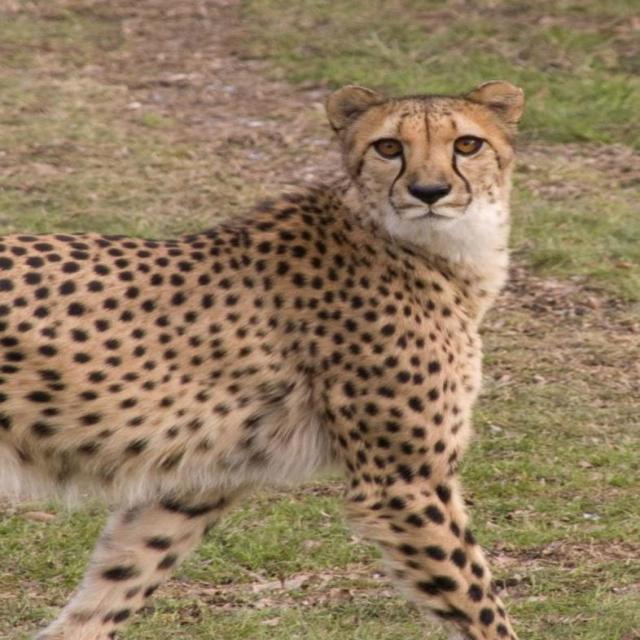Cheetah: (0, 78, 522, 639), (0, 78, 521, 640)
